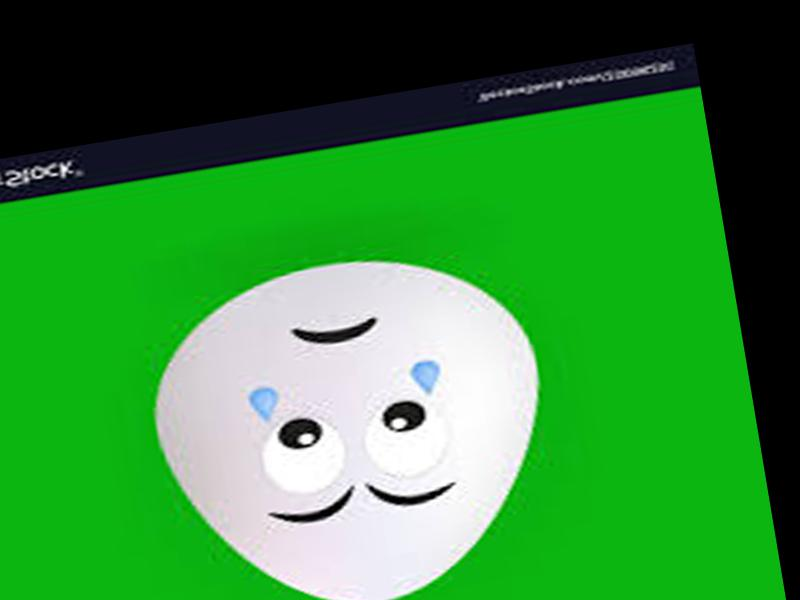Eggs: (131, 234, 567, 600)
